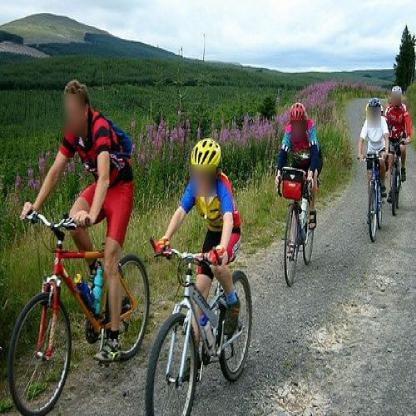bicycle: (1, 200, 149, 404), (136, 231, 256, 413), (272, 163, 317, 282), (354, 145, 386, 236), (385, 132, 407, 210)
